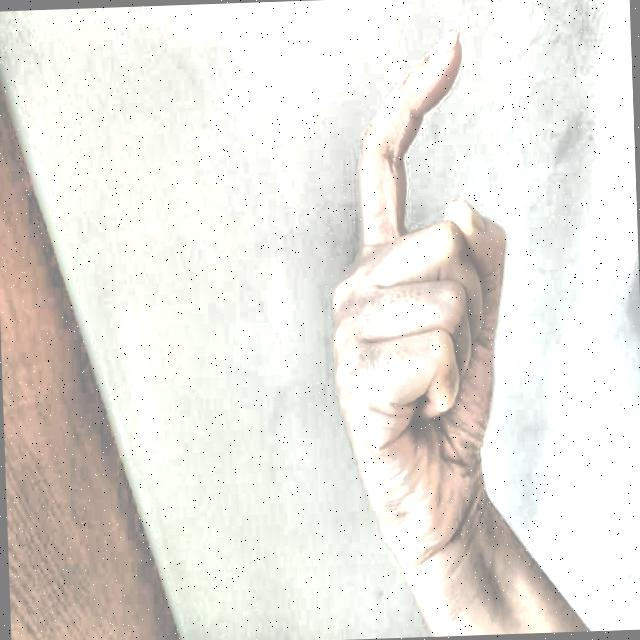E: (292, 18, 547, 549)
